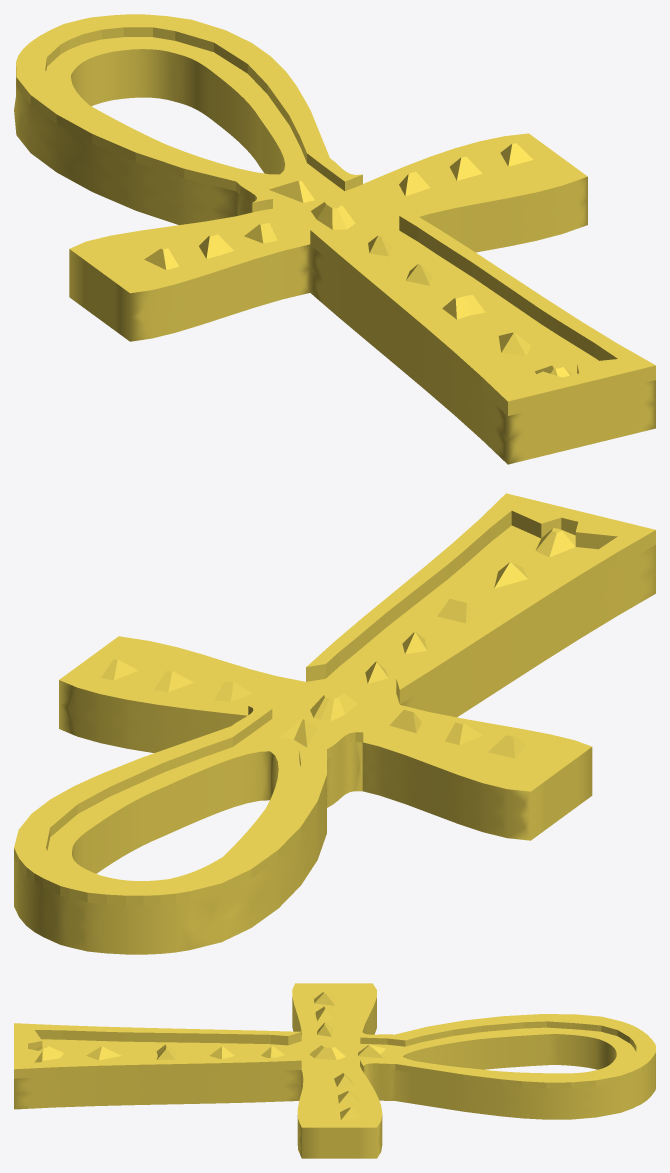
The model's file is Ankh.FBX.
3 renders of one model, top to bottom at view 1: azimuth 30°, elevation 25°; view 2: azimuth 150°, elevation 25°; view 3: azimuth 270°, elevation 25°, orthographic. The views are drawn at different scales.
Visible parts, largest first — view 1: Line01; view 2: Line01; view 3: Line01.
Part boxes in pixels (x1,y1,x2,y2): Line01: (14,14,655,464); Line01: (14,493,655,954); Line01: (14,983,655,1158).
Bounding box in the file's own units: 29.69 × 3.86 × 55.89.
